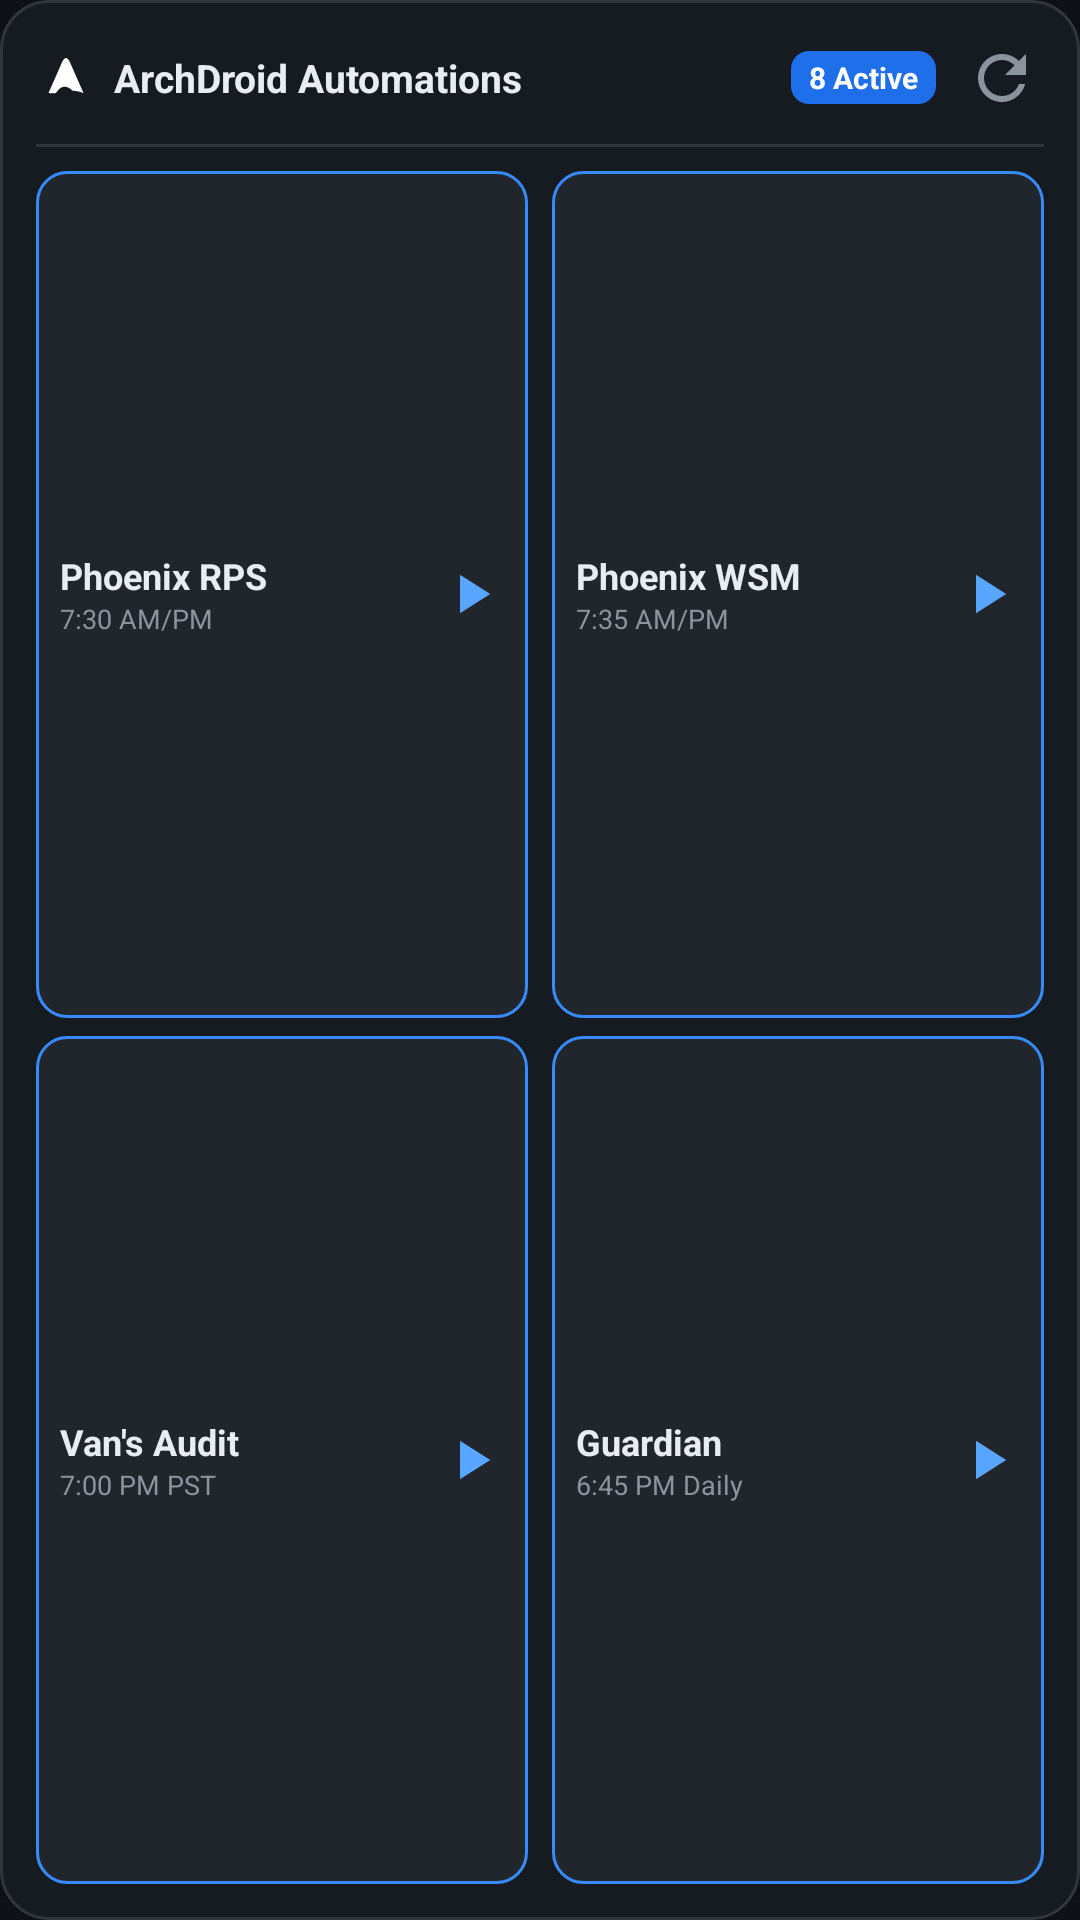

Icon bounding boxes for this 1080×1920 phone screenshot, format (x1, y1, x2, y2):
Refresh: (978, 54, 1026, 102)
Run: (460, 575, 490, 613), (976, 575, 1006, 613), (460, 1441, 490, 1479), (976, 1441, 1006, 1479)
